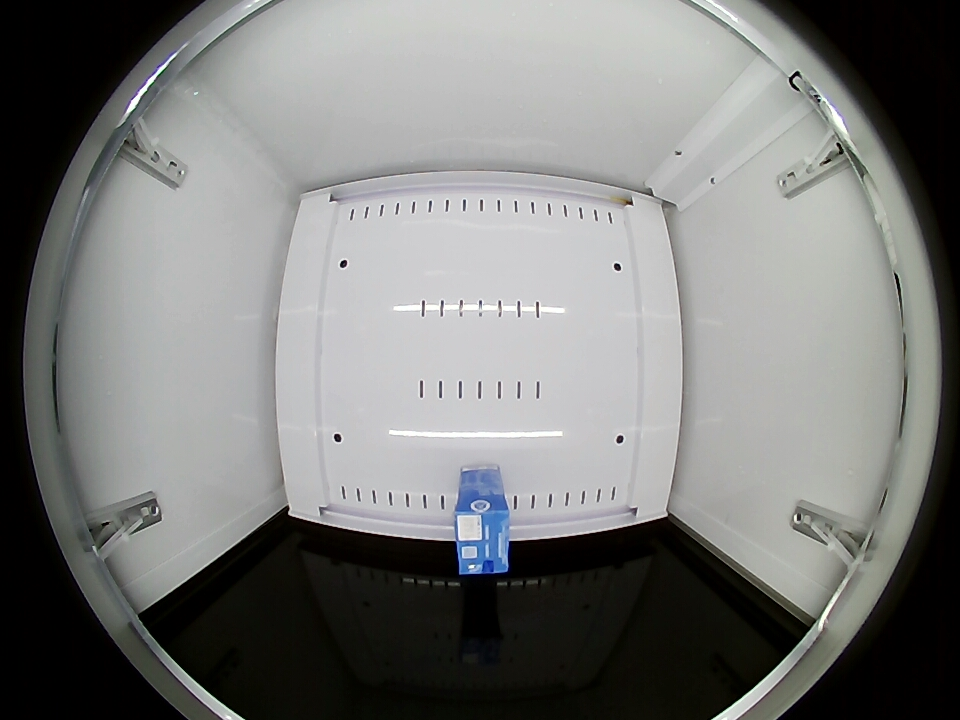weitanai: (455, 494, 510, 574)
